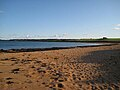human_foot_print: (31, 60, 64, 88), (4, 66, 16, 88)
